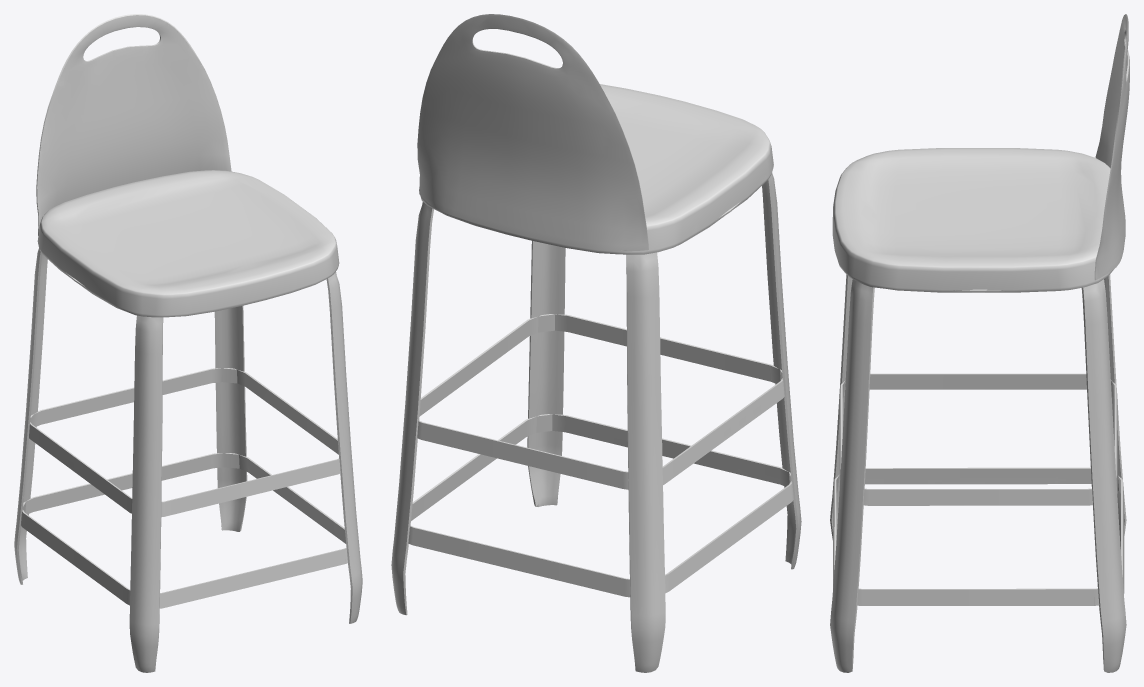
The model's file is 5670b13c-e817-48a8-a78e-4dcfc2e4ec89.glb.
The picture shows the model from 3 angles, left to right: view 1: azimuth 30°, elevation 25°; view 2: azimuth 150°, elevation 25°; view 3: azimuth 270°, elevation 25°; orthographic projection. The views are drawn at different scales.
Visible parts, largest first — view 1: metal_stool_03; view 2: metal_stool_03; view 3: metal_stool_03.
Part boxes in pixels (x1,y1,x2,y2): metal_stool_03: (14,14,362,672); metal_stool_03: (391,14,801,672); metal_stool_03: (830,14,1129,672).
Bounding box in the file's own units: 0.4606 × 1.02 × 0.4706.
1 material, 1 textured.
